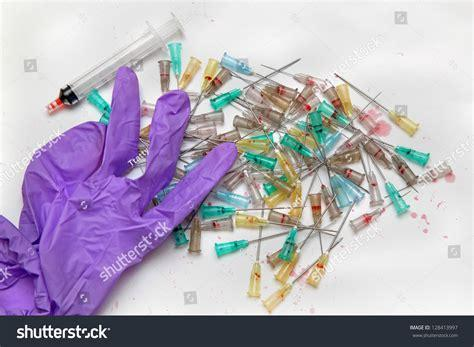gloves: (0, 64, 237, 314)
